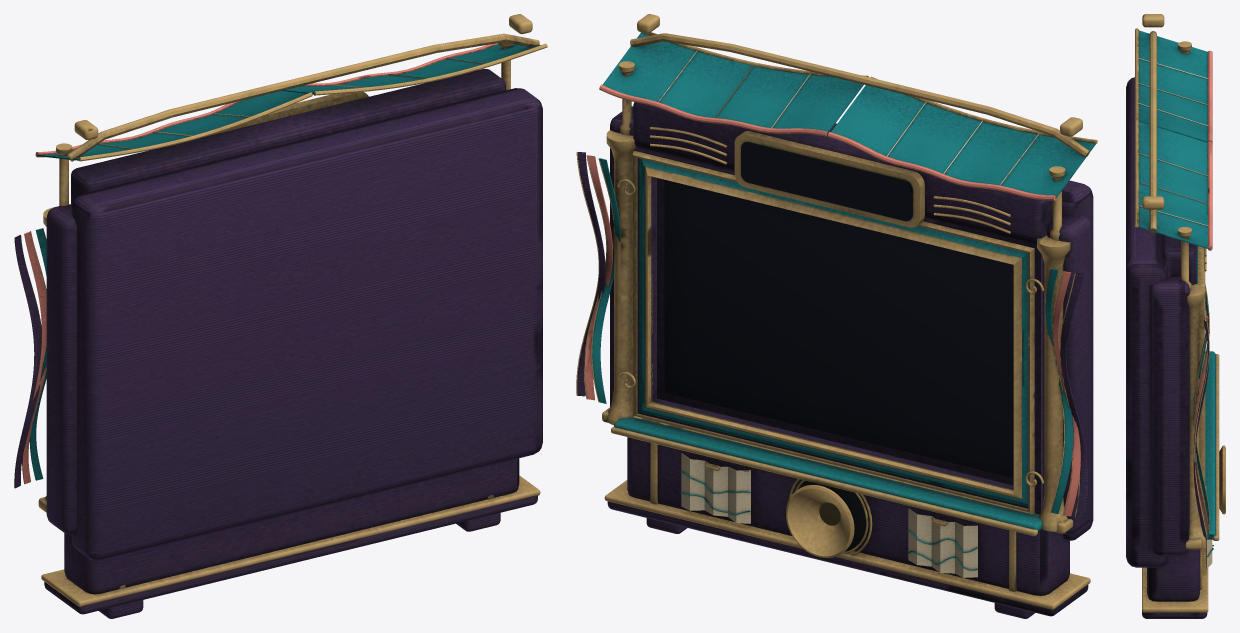
The picture shows the model from 3 angles, left to right: view 1: azimuth 30°, elevation 25°; view 2: azimuth 150°, elevation 25°; view 3: azimuth 270°, elevation 25°; orthographic projection. The views are drawn at different scales.
Parts seen in each view (by area): view 1: Violet_acoustic_case, Brushed_expedition_brass, Teal_woven_cloth, Coral_woven_ribbon; view 2: Even_midnight_inset, Brushed_expedition_brass, Violet_acoustic_case, Teal_woven_cloth, Warm_route_paper, Coral_woven_ribbon; view 3: Violet_acoustic_case, Teal_woven_cloth, Brushed_expedition_brass, Coral_woven_ribbon, Warm_route_paper.
Boxes of the visible parts, box(x1,y1,x2,y2) form: Violet_acoustic_case: box(14, 68, 542, 618); Brushed_expedition_brass: box(20, 14, 547, 607); Teal_woven_cloth: box(29, 44, 540, 480); Coral_woven_ribbon: box(22, 43, 497, 484); Even_midnight_inset: box(664, 141, 1013, 551); Brushed_expedition_brass: box(576, 14, 1097, 609); Violet_acoustic_case: box(577, 102, 1093, 618); Teal_woven_cloth: box(592, 32, 1095, 570); Warm_route_paper: box(658, 50, 1039, 577); Coral_woven_ribbon: box(585, 84, 1080, 516); Violet_acoustic_case: box(1126, 77, 1208, 618); Teal_woven_cloth: box(1136, 30, 1215, 556); Brushed_expedition_brass: box(1135, 14, 1225, 612); Coral_woven_ribbon: box(1193, 50, 1212, 533); Warm_route_paper: box(1138, 58, 1212, 568).
Bounding box in the file's own units: 9.5 × 8.7 × 1.83.
Materials: 6 (6 with a texture image).
